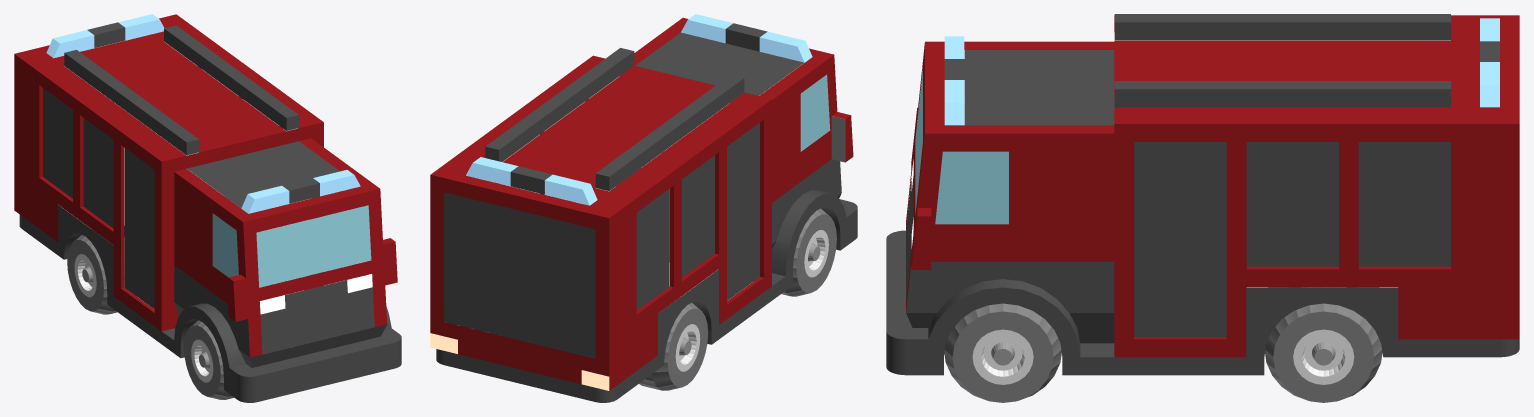
The model's file is fire-truck.glb.
The picture shows the model from 3 angles, left to right: view 1: azimuth 30°, elevation 25°; view 2: azimuth 150°, elevation 25°; view 3: azimuth 270°, elevation 25°; orthographic projection. The views are drawn at different scales.
Parts seen in each view (by area): view 1: body.002, wheel_backRight.002, wheel_frontRight.002; view 2: body.002, wheel_backRight.002, wheel_frontRight.002; view 3: body.002, wheel_backLeft.002, wheel_frontLeft.002.
Part boxes in pixels (x1=…): body.002: x1=14, y1=14, x2=401, y2=402; wheel_backRight.002: x1=67, y1=230, x2=129, y2=314; wheel_frontRight.002: x1=184, y1=320, x2=233, y2=399; body.002: x1=430, y1=14, x2=857, y2=402; wheel_backRight.002: x1=639, y1=297, x2=708, y2=390; wheel_frontRight.002: x1=781, y1=208, x2=836, y2=296; body.002: x1=886, y1=14, x2=1519, y2=375; wheel_backLeft.002: x1=1265, y1=287, x2=1382, y2=402; wheel_frontLeft.002: x1=944, y1=303, x2=1061, y2=402.
Size of the model in its own units: 3.66 by 4.78 by 9.
